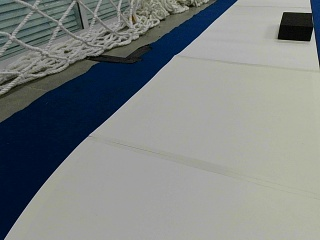block: (279, 12, 314, 40)
